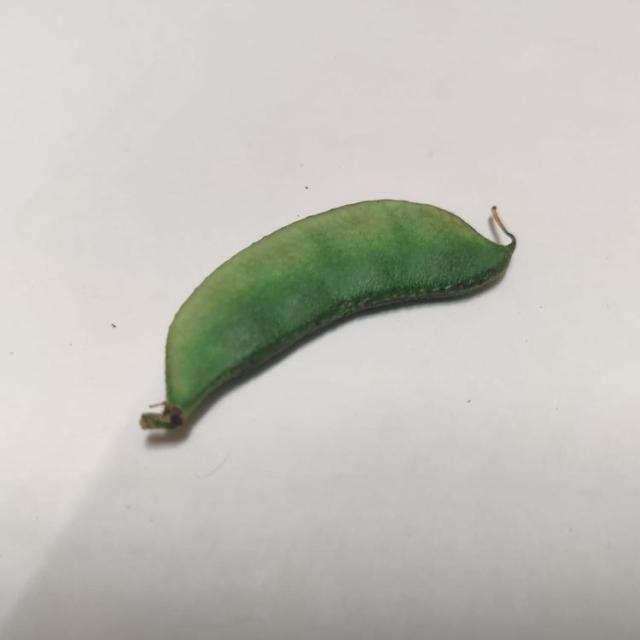Organik: (156, 181, 541, 433)
